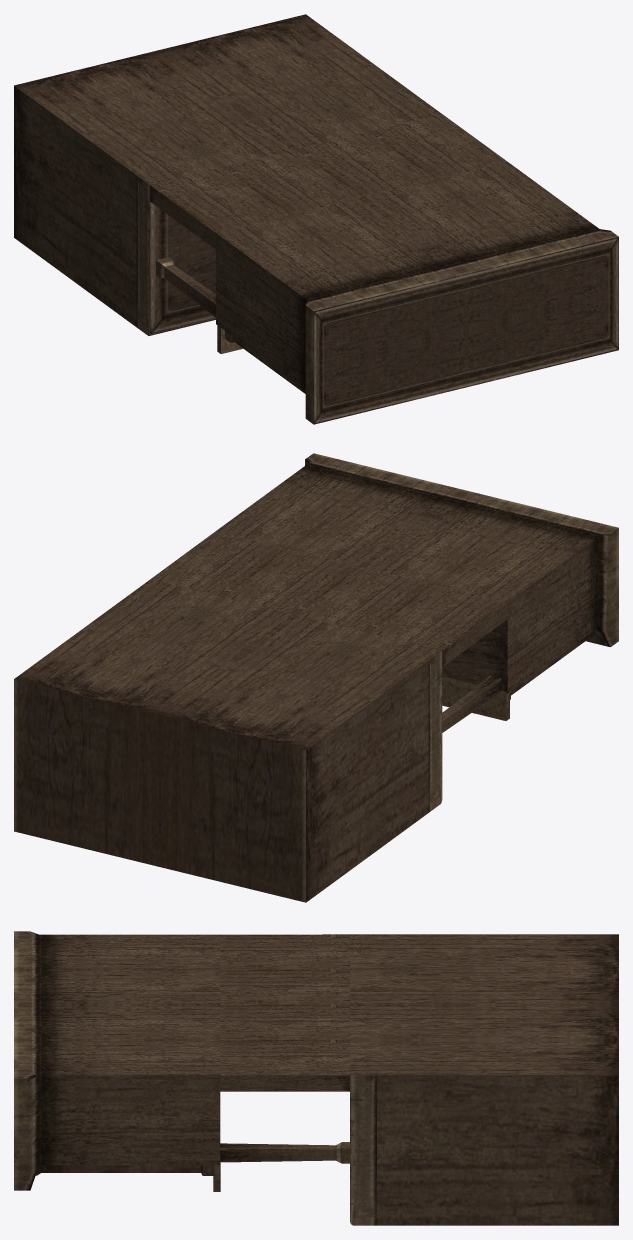
The model's file is furniture_cabinet.glb.
The picture shows the model from 3 angles, top to bottom: view 1: azimuth 30°, elevation 25°; view 2: azimuth 150°, elevation 25°; view 3: azimuth 270°, elevation 25°; orthographic projection.
Size of the model in its own units: 61.04 by 29.08 by 106.
1 material, 1 textured.
